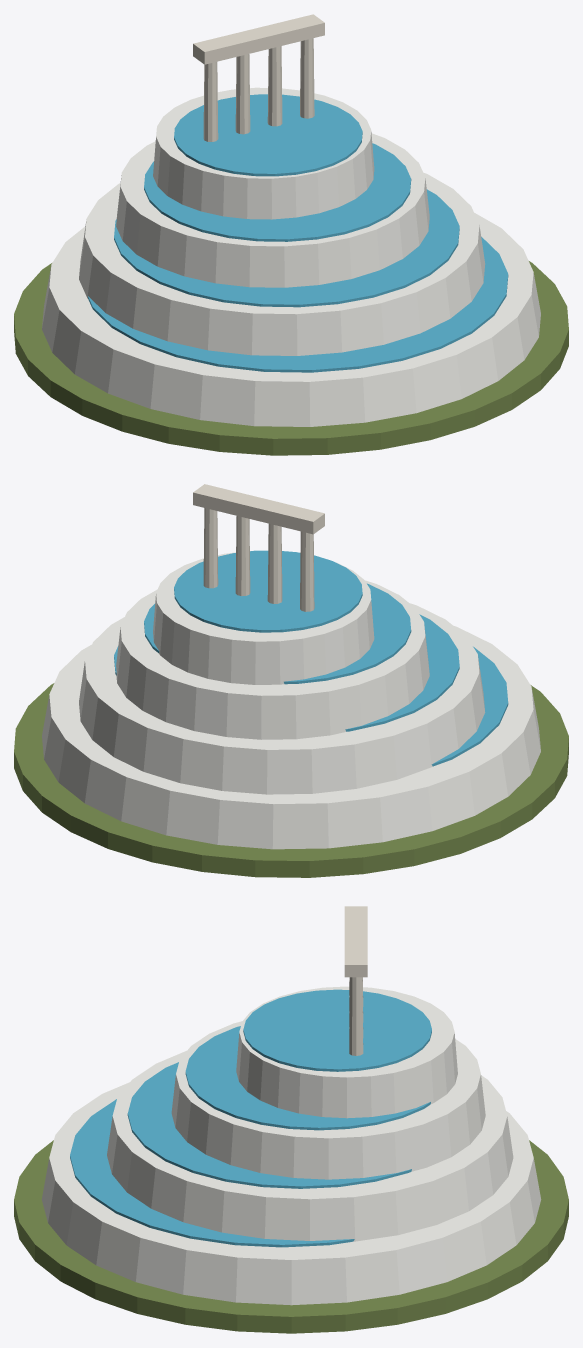
File: pamukkale.glb
3 views of the same model, one above another, from view 1: azimuth 30°, elevation 25°; view 2: azimuth 150°, elevation 25°; view 3: azimuth 270°, elevation 25° (orthographic).
Size of the model in its own units: 0.6 by 0.335 by 0.6.
